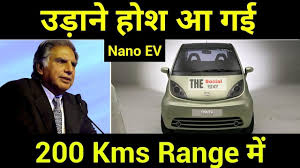Nano: (158, 42, 256, 134)
